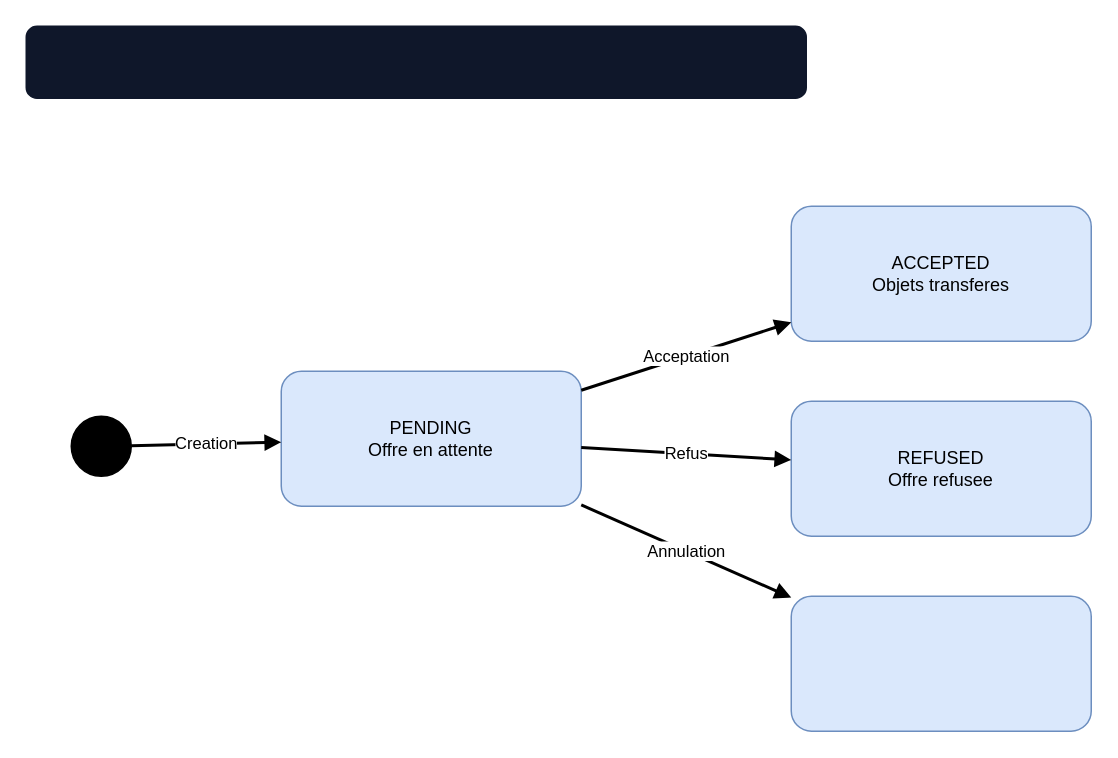
Image size: 1118x758. Some labels were removed from this diagram. Each missing label, with the centre of its shape:
CANCELLED Offre annulee: point 940,663
Etats - offre d'echange: point 415,61
